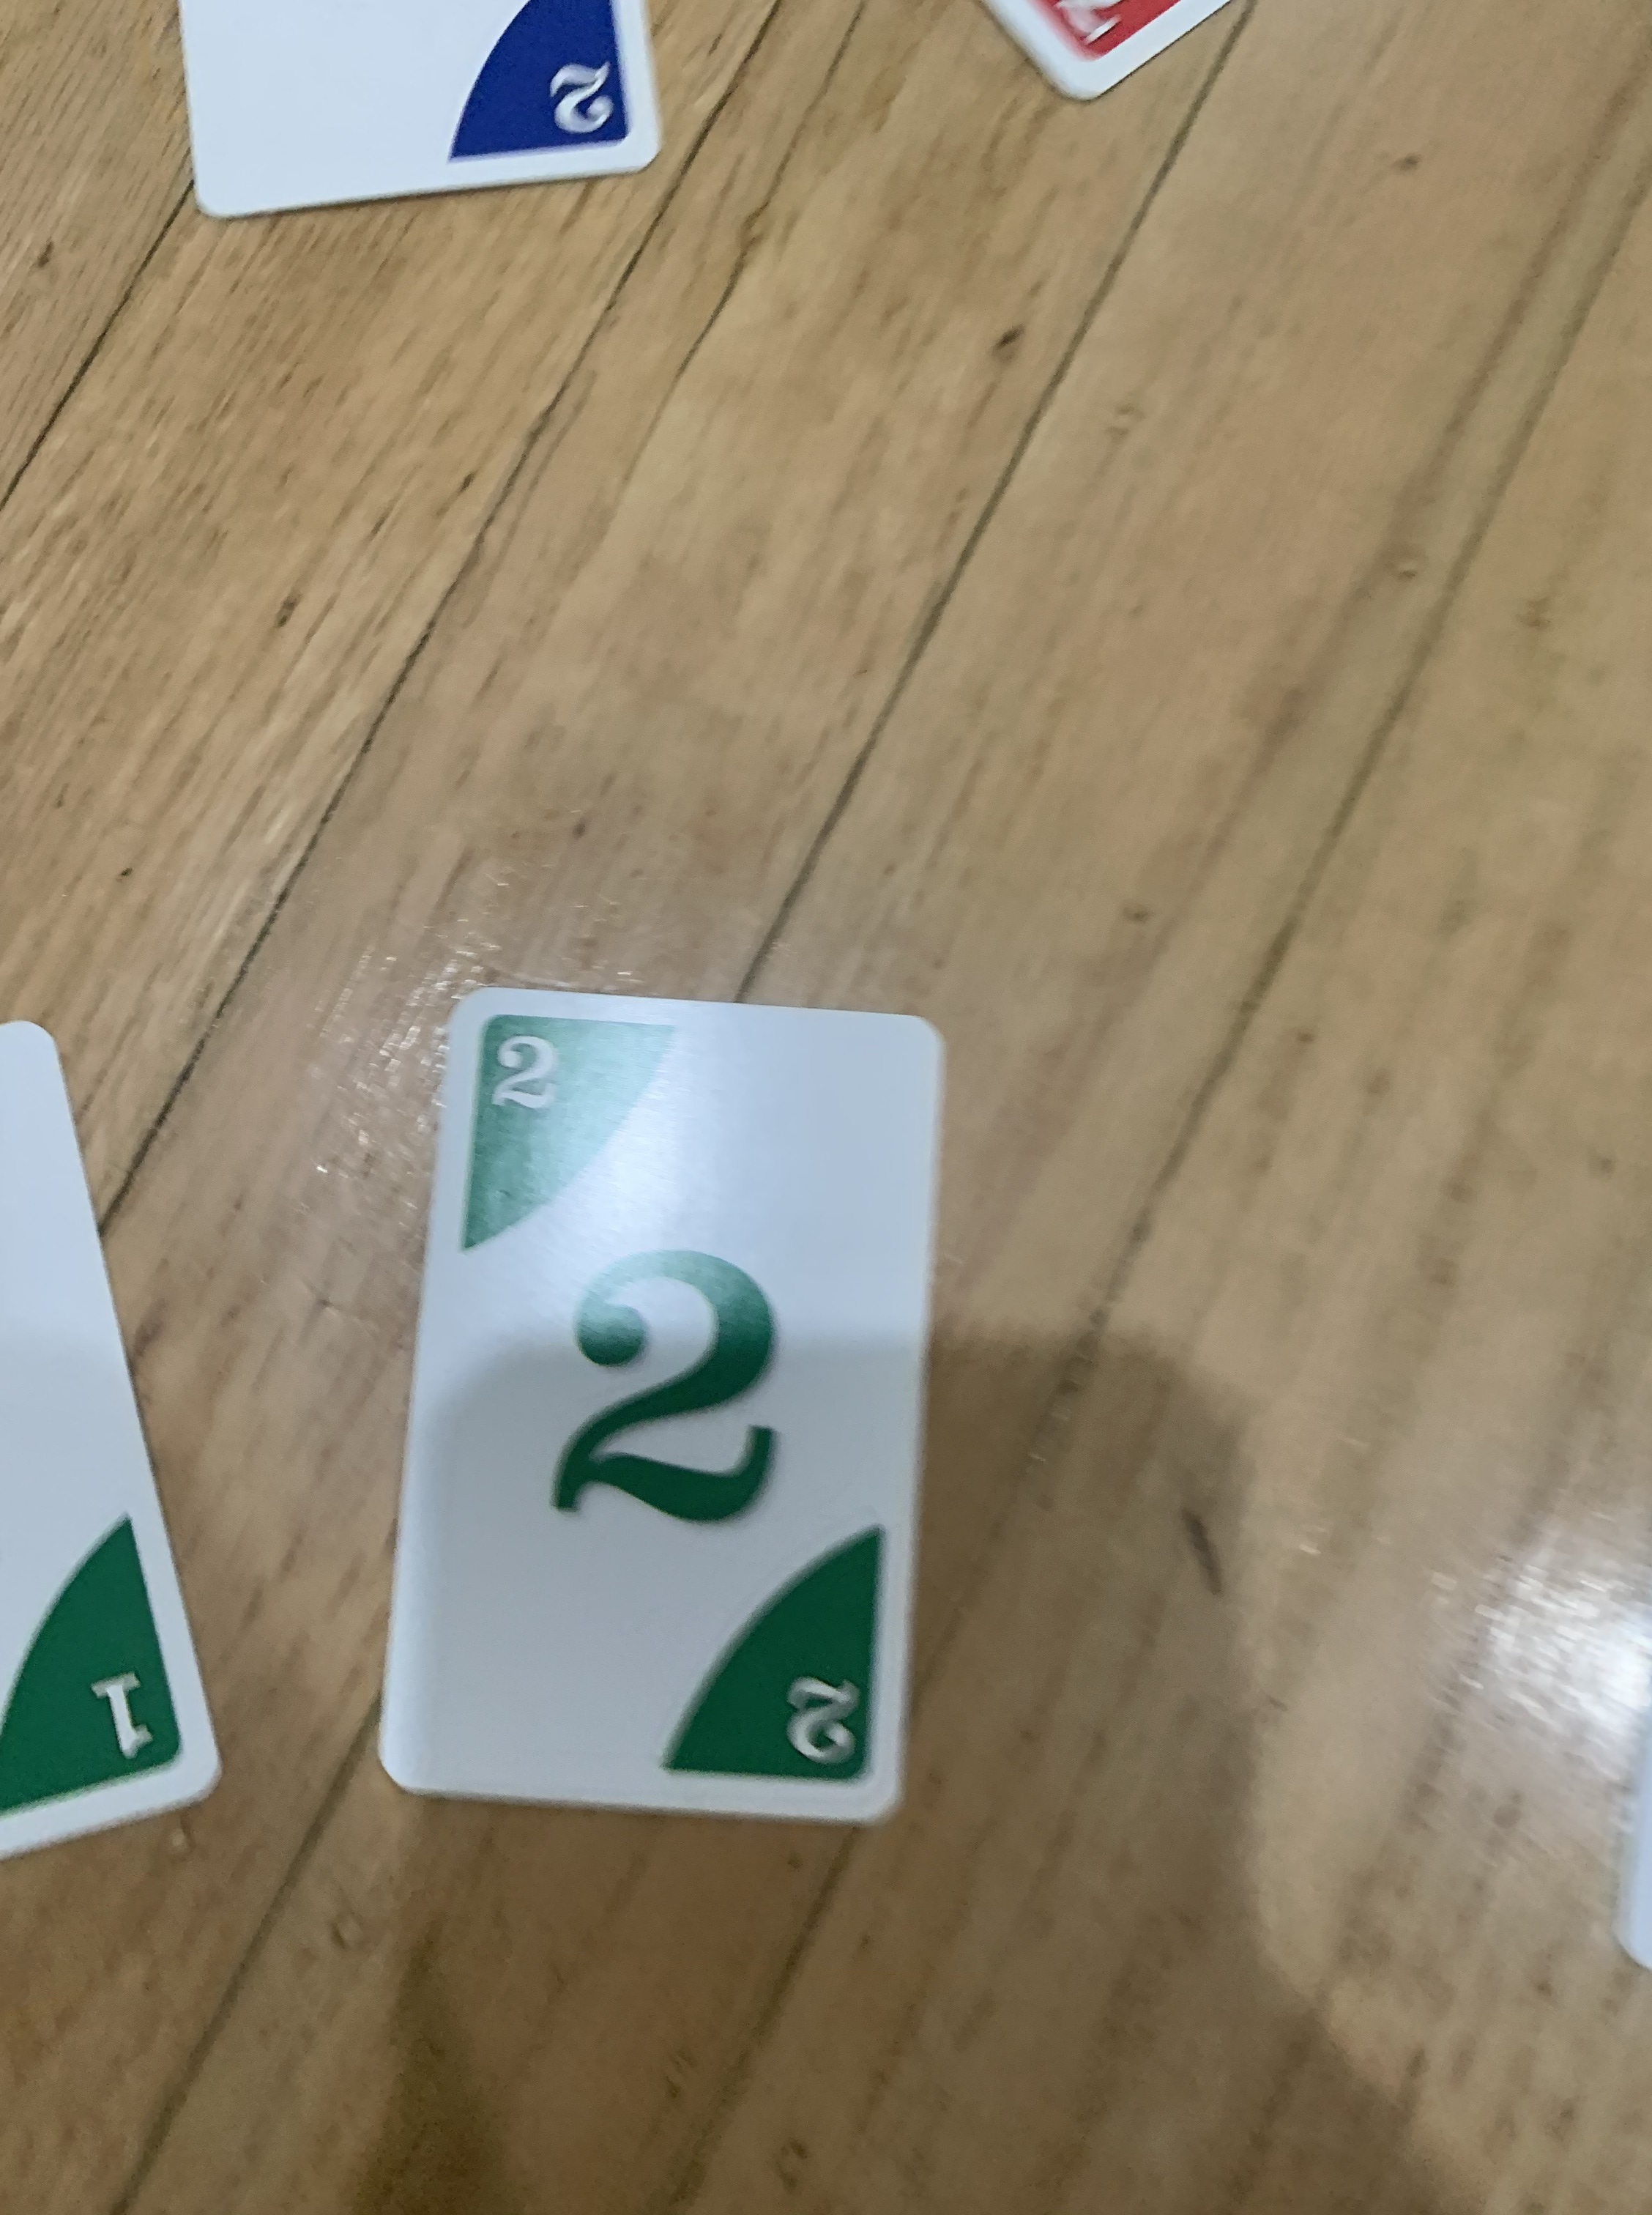two: (364, 983, 958, 1844)
